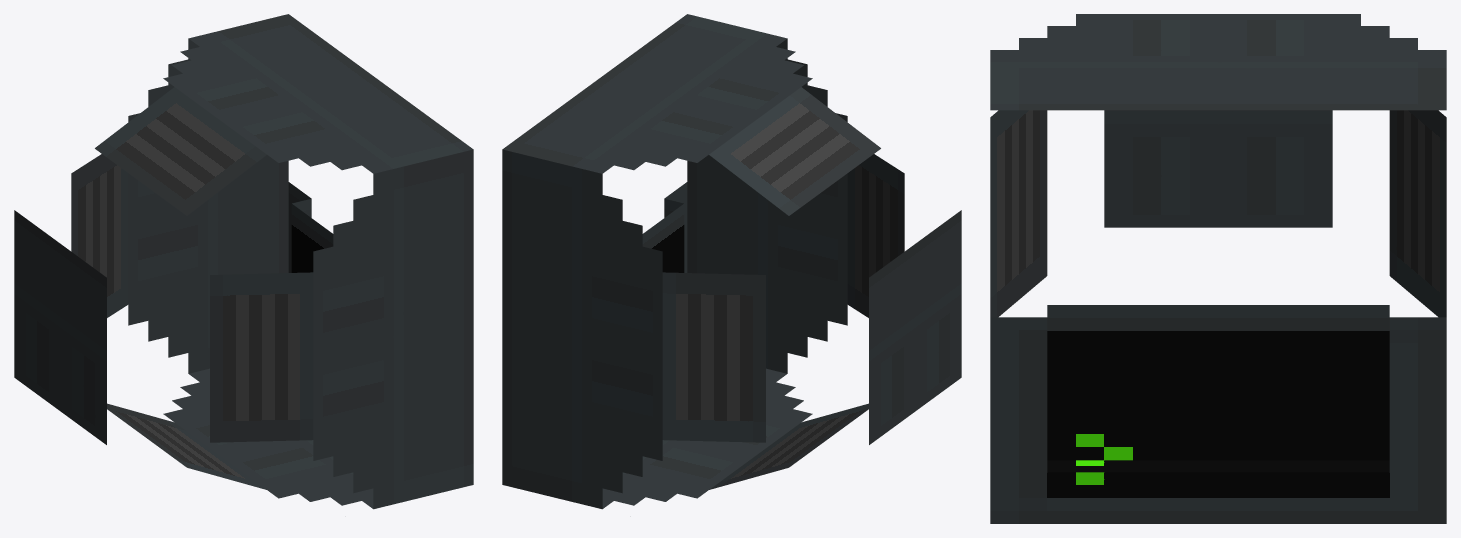
Rendered from crt_blinking.obj.
3 renders of one model, left to right at view 1: azimuth 30°, elevation 25°; view 2: azimuth 150°, elevation 25°; view 3: azimuth 270°, elevation 25°, orthographic. The views are drawn at different scales.
Parts seen in each view (by area): view 1: Monitor, Screen; view 2: Monitor, Screen; view 3: Monitor, Screen.
Part boxes in pixels (left/top/right/bottom): Monitor: left=14, top=14, right=473, bottom=509; Screen: left=291, top=204, right=333, bottom=272; Monitor: left=502, top=14, right=961, bottom=509; Screen: left=642, top=204, right=684, bottom=272; Monitor: left=990, top=14, right=1446, bottom=523; Screen: left=1047, top=305, right=1389, bottom=460.
Bounding box in the file's own units: 1 × 1 × 1.
